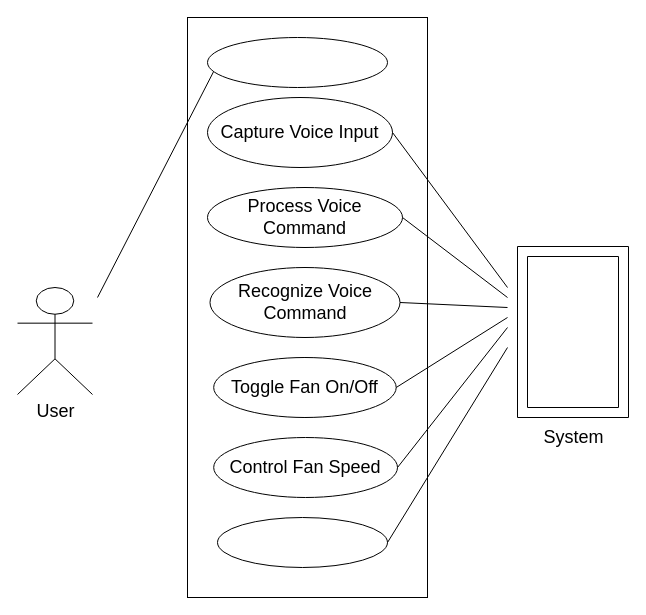
This 646x615 diagram has some shape labels left out. Here are the shapes that lost their labels. From the top down, the box of each, then its label:
(206, 36, 388, 88): Speak
(216, 516, 388, 568): Rotate Fan
